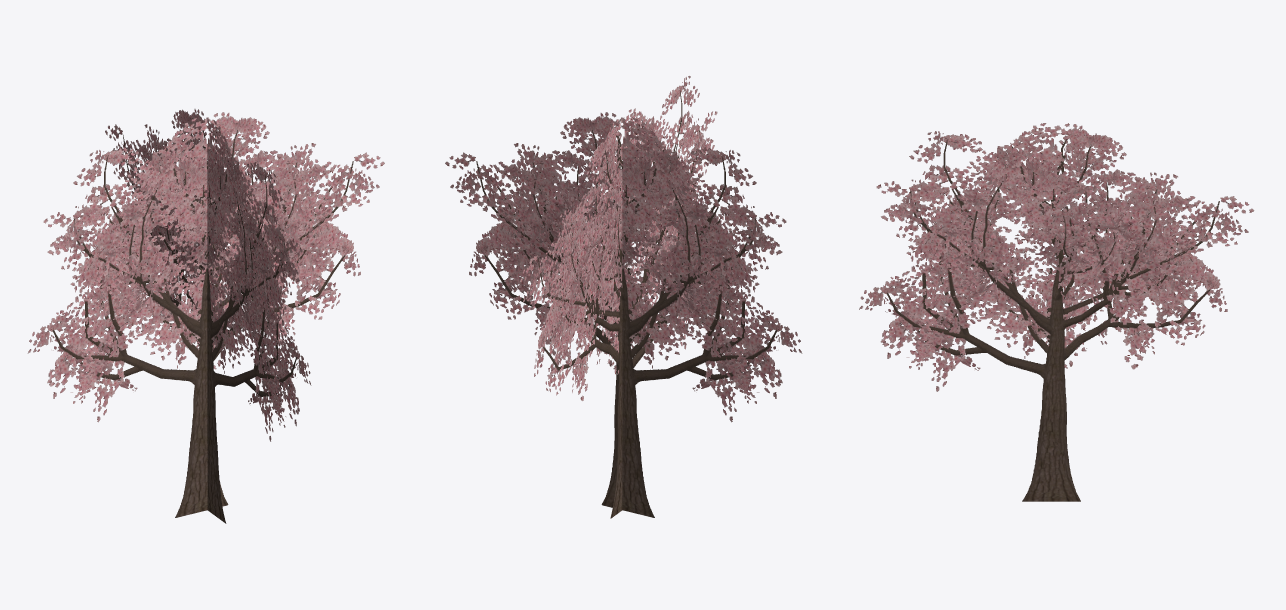
File: sakura_lod.glb
3 renders of one model, left to right at view 1: azimuth 30°, elevation 25°; view 2: azimuth 150°, elevation 25°; view 3: azimuth 270°, elevation 25°, orthographic. The views are drawn at different scales.
Visible parts, largest first — view 1: sakura_lod; view 2: sakura_lod; view 3: sakura_lod.
Boxes of the visible parts, x1,y1,x2,y2 form: sakura_lod: [27, 109, 384, 523]; sakura_lod: [445, 76, 802, 518]; sakura_lod: [859, 123, 1254, 501].
Size of the model in its own units: 10.15 by 10.5 by 10.15.
1 material, 1 textured.
